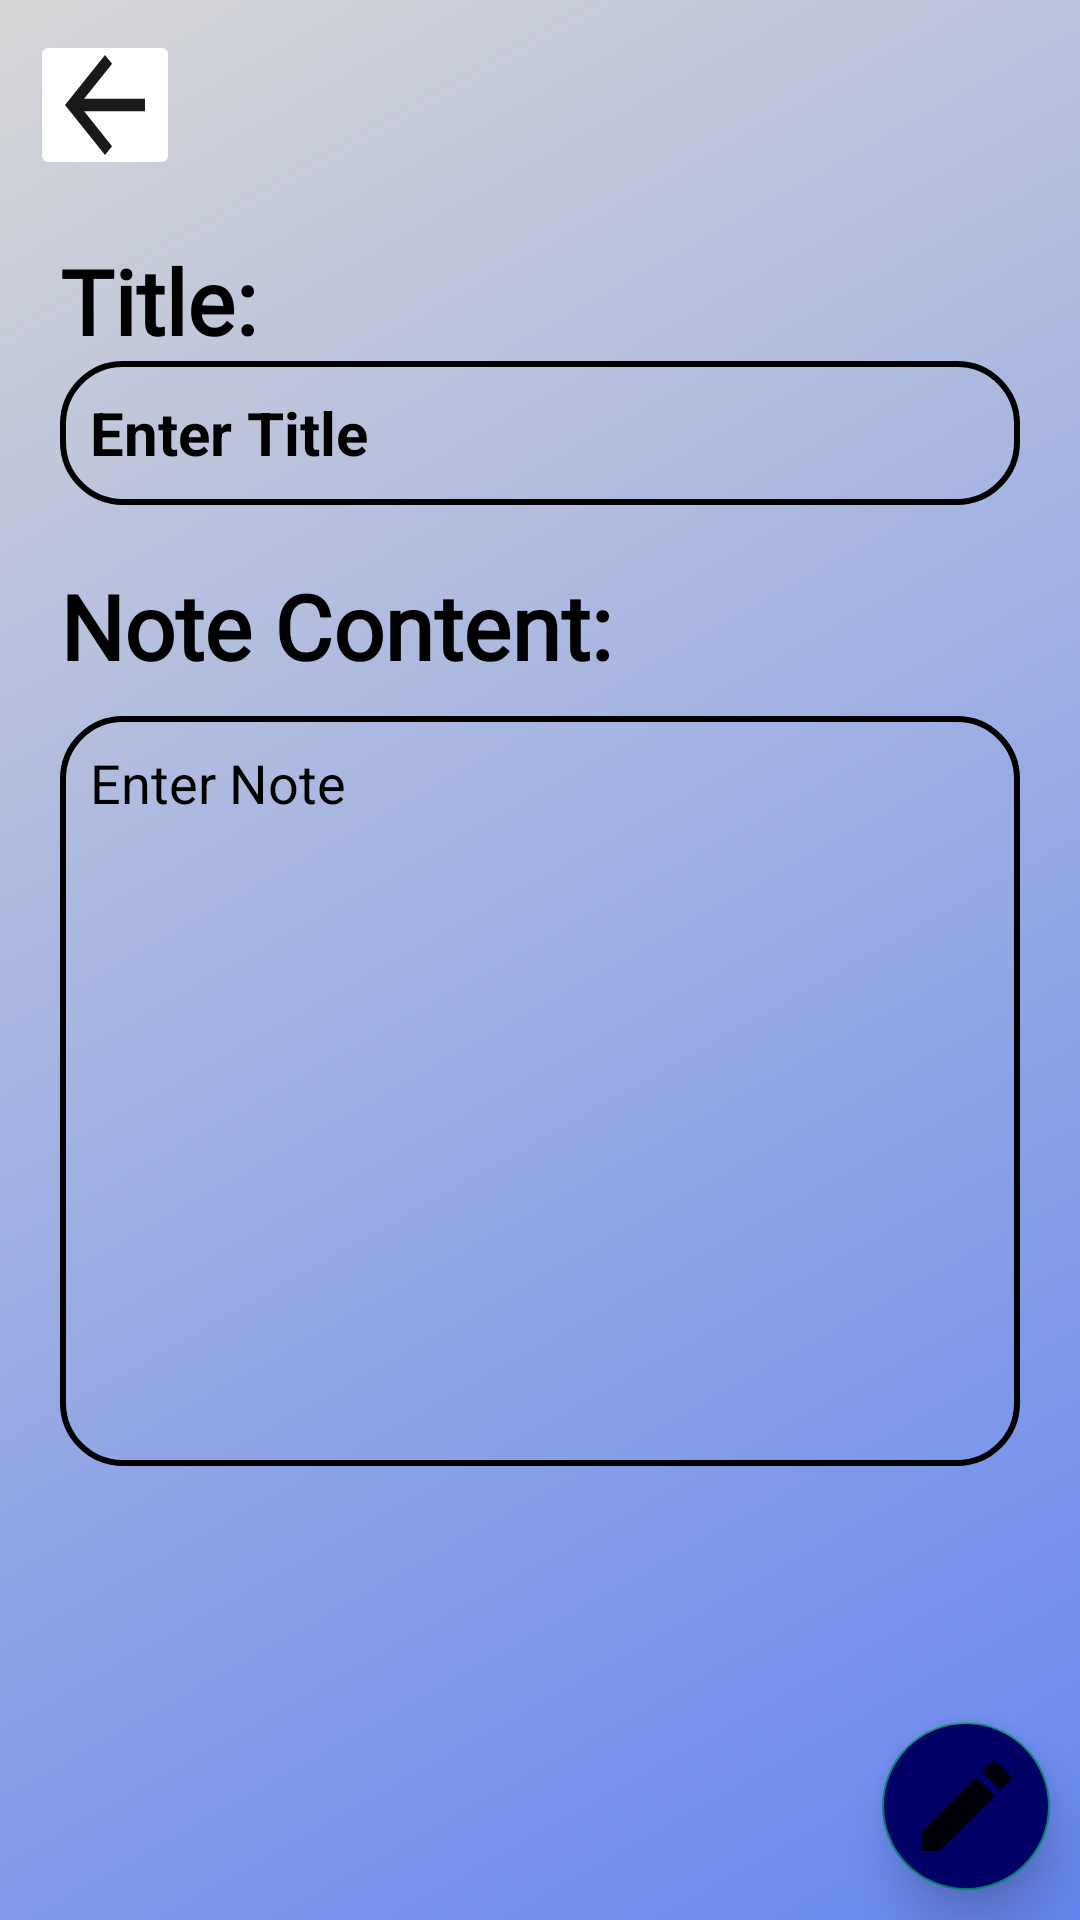

Icon click points for this 1080×1920 phone screenshot, format (x,y):
arrow back: (105,105)
edit: (966,1806)
